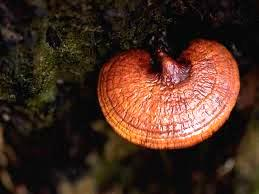Ganoderma - Fruit Body: (91, 38, 240, 150)
